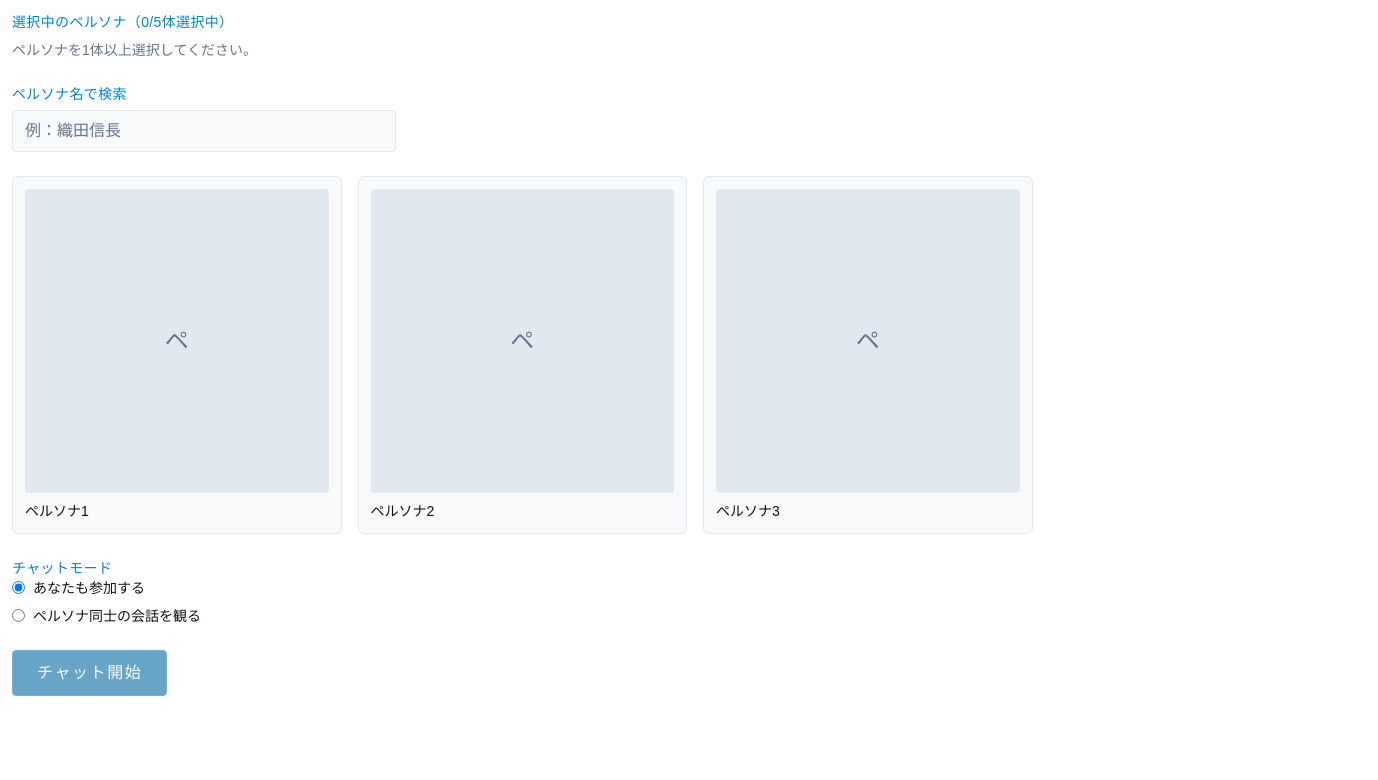
Test: PersonaSelector › ×マークで選択を解除できる
What coordinates should you click on to do the following:
click the button "ペ ペルソナ1"
I would click on:
 (177, 355)
Its box is [12,176,342,534].
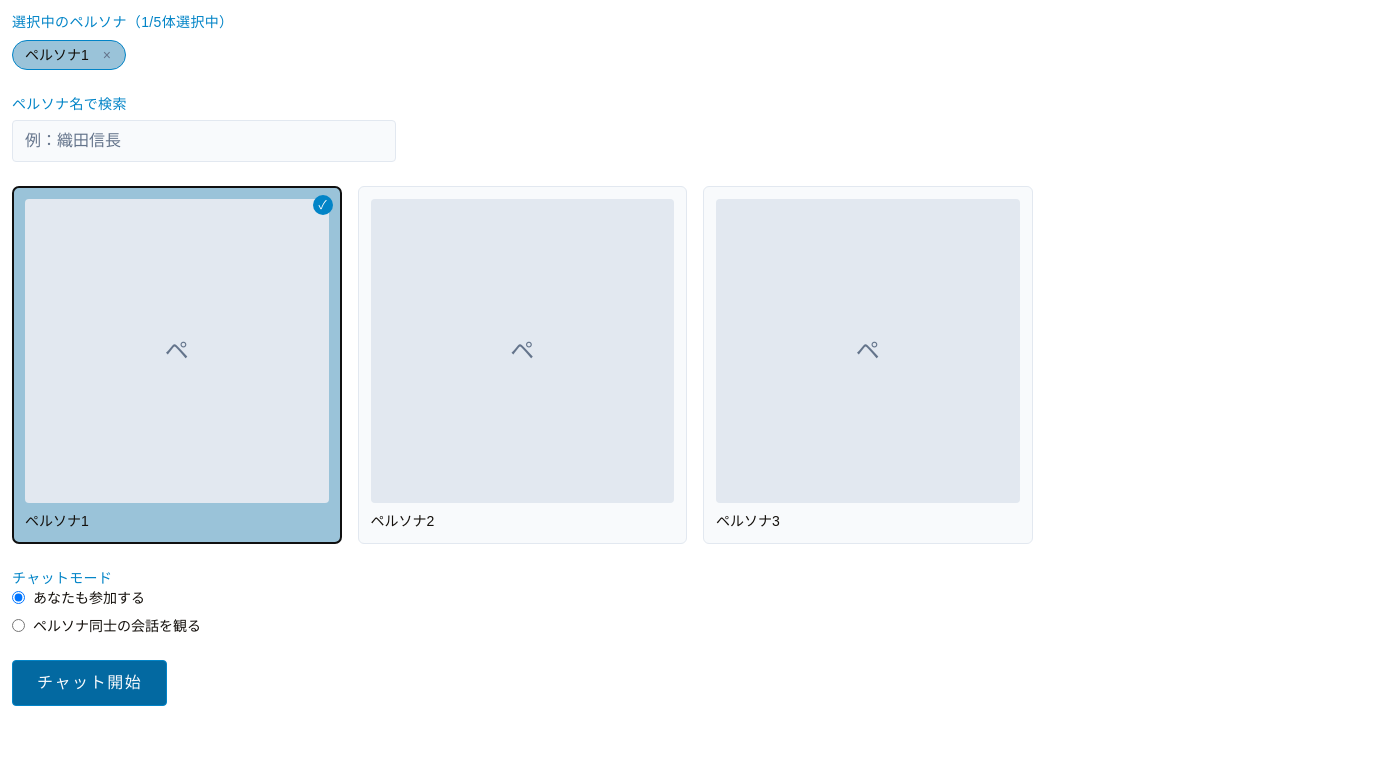
What coordinates should you click on to do the following:
click the button named "ペルソナ1の選択を解除"
I would click on:
 (107, 55)
Its box is [97,45,117,65].
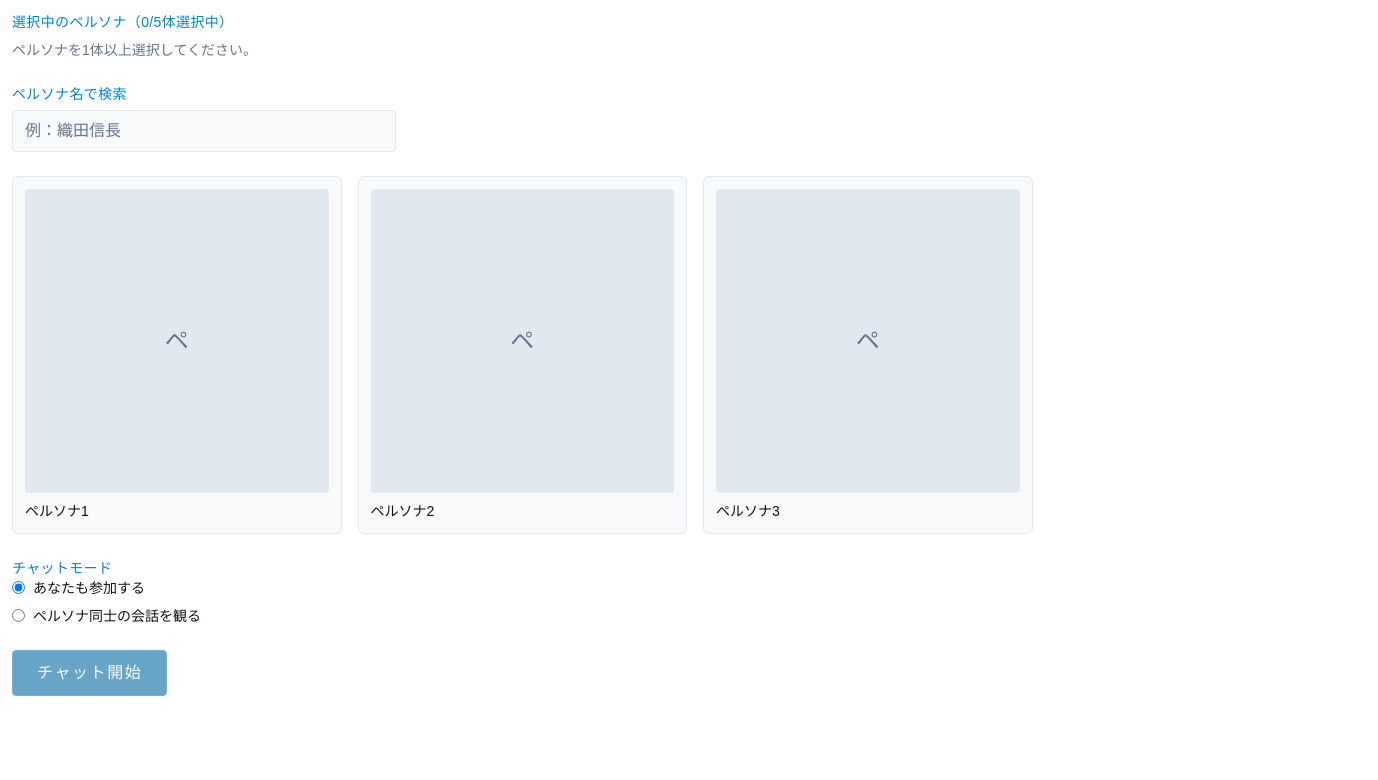
Check: the heading "選択中のペルソナ（0/5体選択中）" is shown, box [12,14,233,30]
Check: the button "チャット開始" is disabled, box [12,650,168,696]
